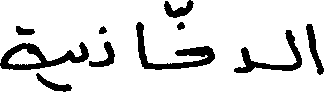ا: (306, 22, 322, 76), (133, 19, 147, 68)
ة: (0, 24, 47, 71)
خ: (175, 21, 215, 69)
د: (234, 45, 255, 73)
ل: (282, 27, 301, 71)
ن: (101, 23, 115, 67)
ي: (41, 40, 88, 90)
